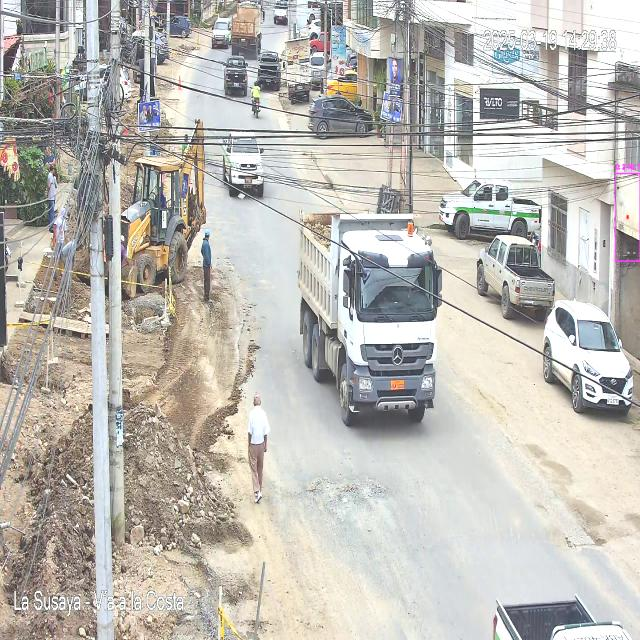TRUCK: (296, 212, 439, 422)
